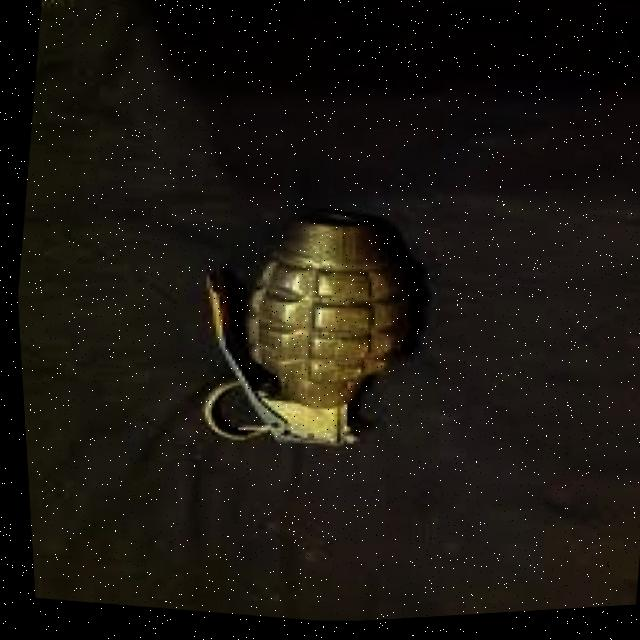grenade: (169, 175, 447, 501)
